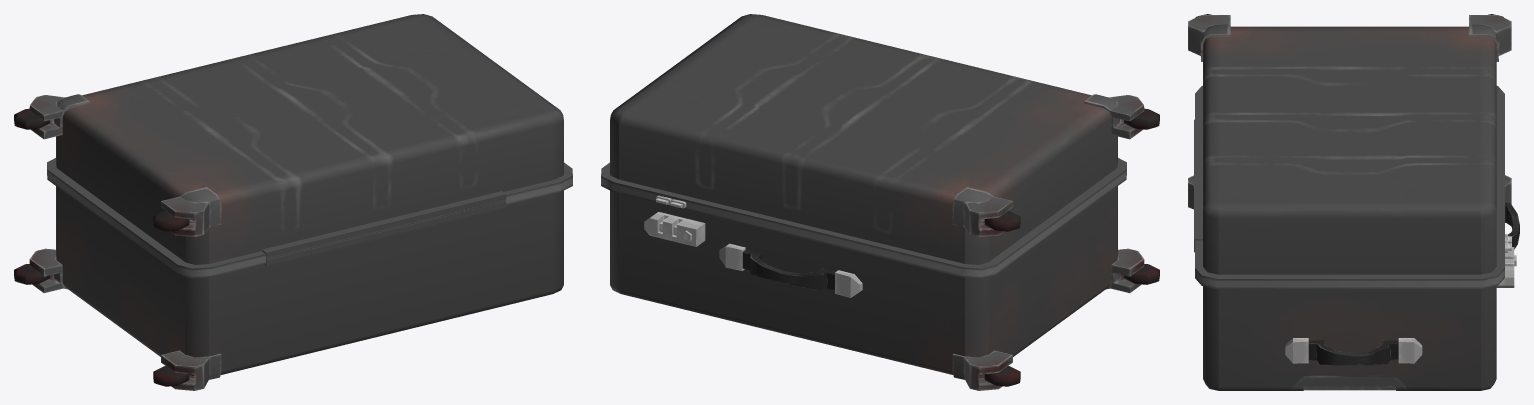
File: suitcase.dae
3 renders of one model, left to right at view 1: azimuth 30°, elevation 25°; view 2: azimuth 150°, elevation 25°; view 3: azimuth 270°, elevation 25°, orthographic.
Visible parts, largest first — view 1: node0; view 2: node0; view 3: node0.
Boxes of the visible parts, x1=… form: node0: x1=14, y1=14, x2=572, y2=390; node0: x1=601, y1=14, x2=1159, y2=390; node0: x1=1188, y1=14, x2=1519, y2=390.
Bounding box in the file's own units: 0.7 × 0.45 × 0.28.
Materials: 1 (1 with a texture image).
